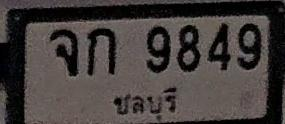4: (208, 23, 230, 70)
8: (177, 24, 200, 71)
9: (146, 25, 170, 72), (238, 23, 260, 69)
A01: (87, 28, 116, 74)
A08: (49, 29, 78, 76)
CBI: (111, 84, 180, 120)
